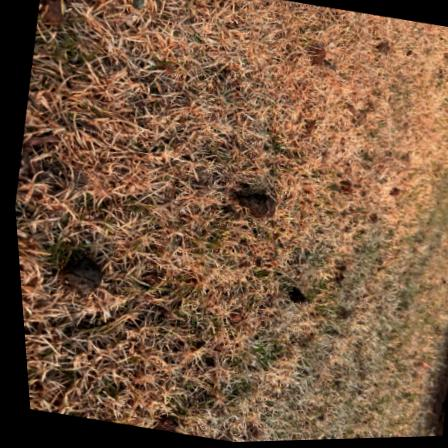dog-poop: (51, 246, 110, 300), (231, 187, 282, 224)
